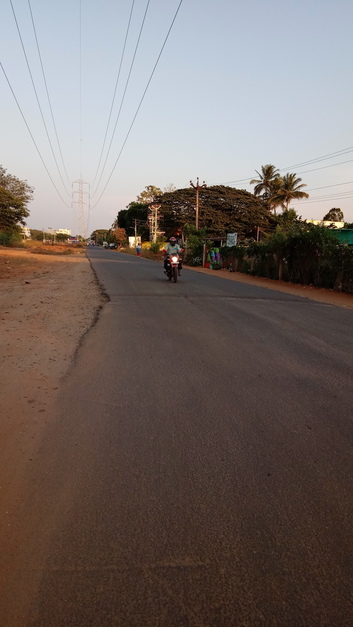bump: (103, 290, 322, 305)
